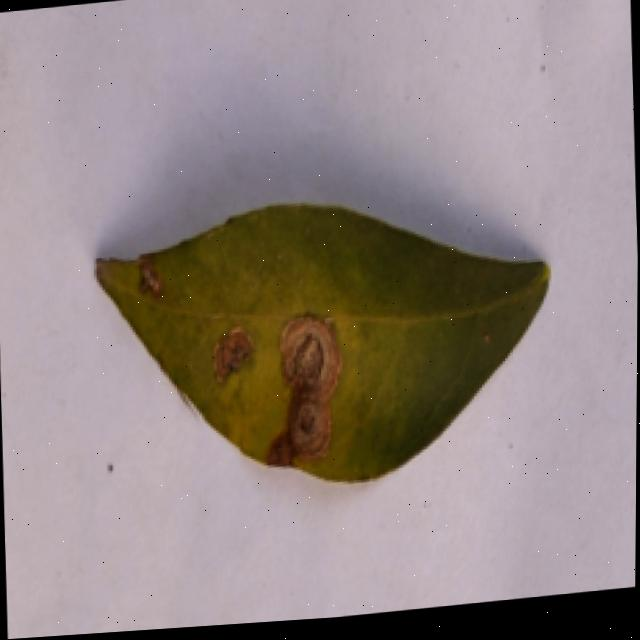canker: (95, 208, 545, 478), (263, 302, 360, 473), (204, 308, 264, 394), (119, 241, 178, 295)
